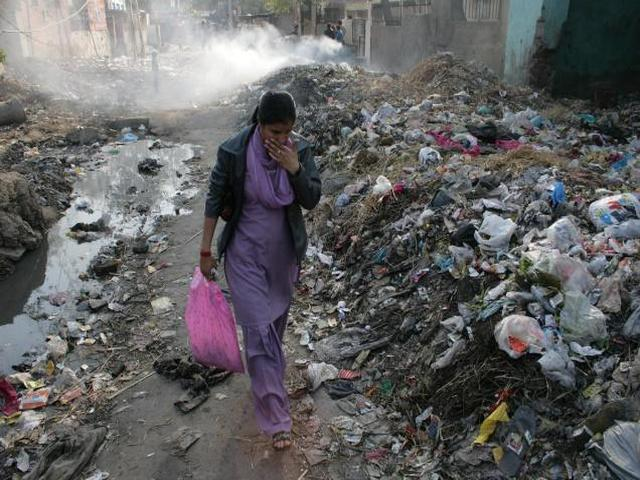garbage: (356, 100, 629, 427)
